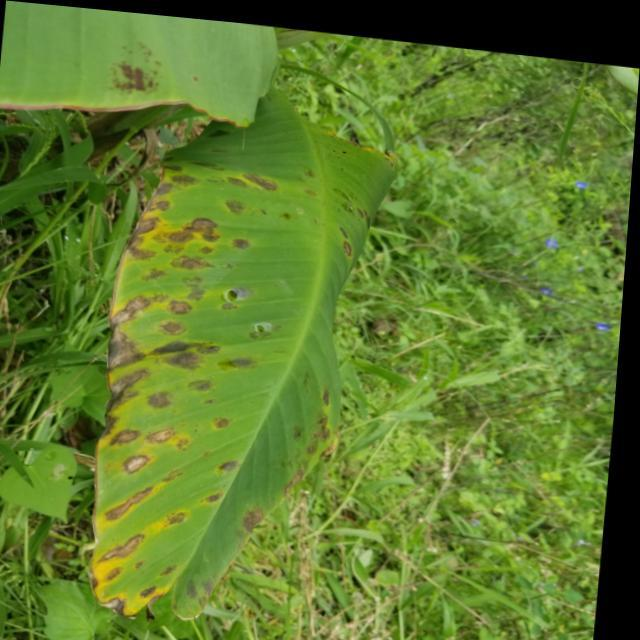Early_rust: (48, 70, 382, 640)
